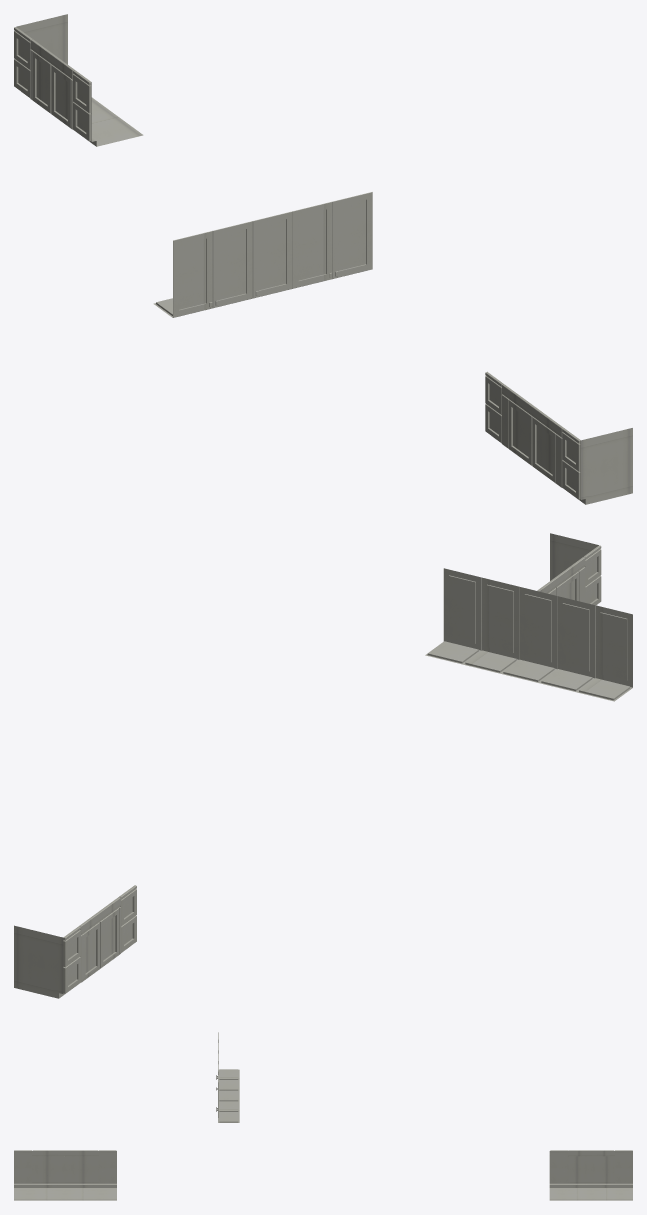
File: Cabinets_Bolder_.glb
The picture shows the model from 3 angles, top to bottom: view 1: azimuth 30°, elevation 25°; view 2: azimuth 150°, elevation 25°; view 3: azimuth 270°, elevation 25°; orthographic projection. The views are drawn at different scales.
Parts seen in each view (by area): view 1: Cabinets Bolder_; view 2: Cabinets Bolder_; view 3: Cabinets Bolder_.
Boxes of the visible parts, x1,y1,x2,y2 form: Cabinets Bolder_: (14, 14, 632, 504); Cabinets Bolder_: (14, 533, 632, 998); Cabinets Bolder_: (14, 1032, 632, 1200).
Size of the model in its own units: 4.8 by 3.07 by 17.16.
1 material, 1 textured.
